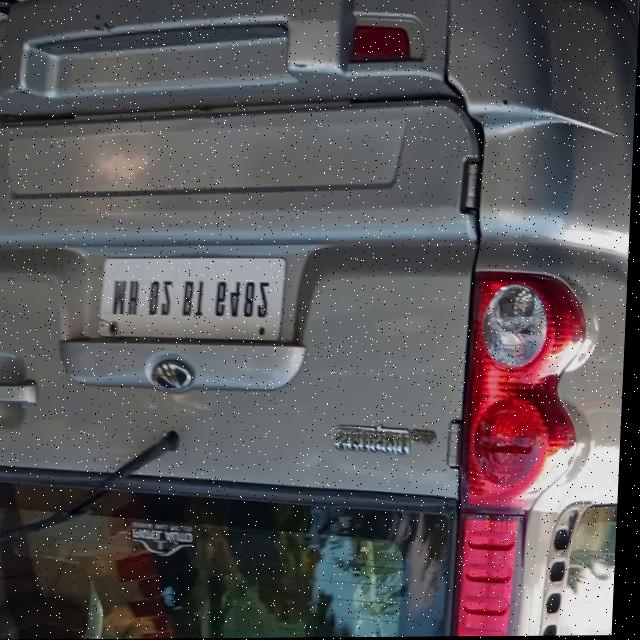plate: (100, 256, 290, 344)
